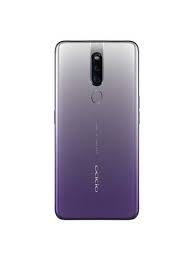oppo: (52, 36, 140, 222)
